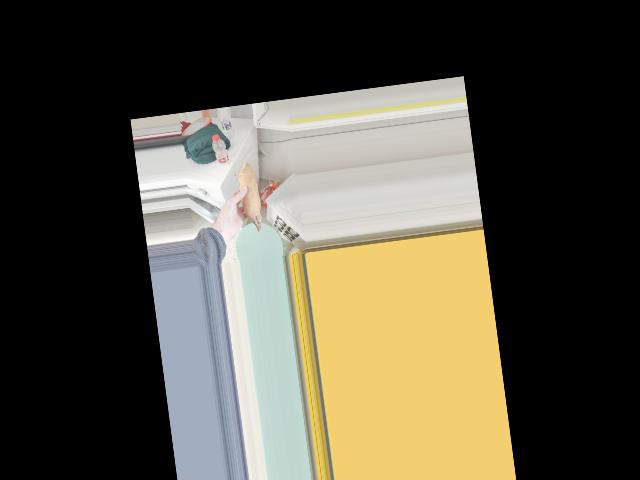sweet_potato: (232, 170, 263, 232)
